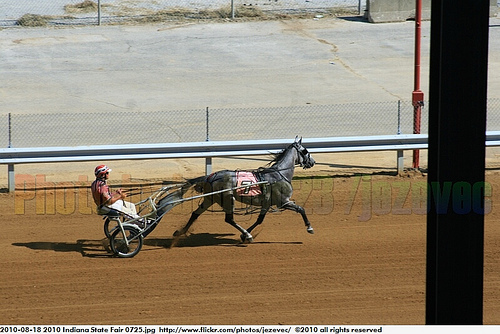horse: (168, 136, 317, 248)
